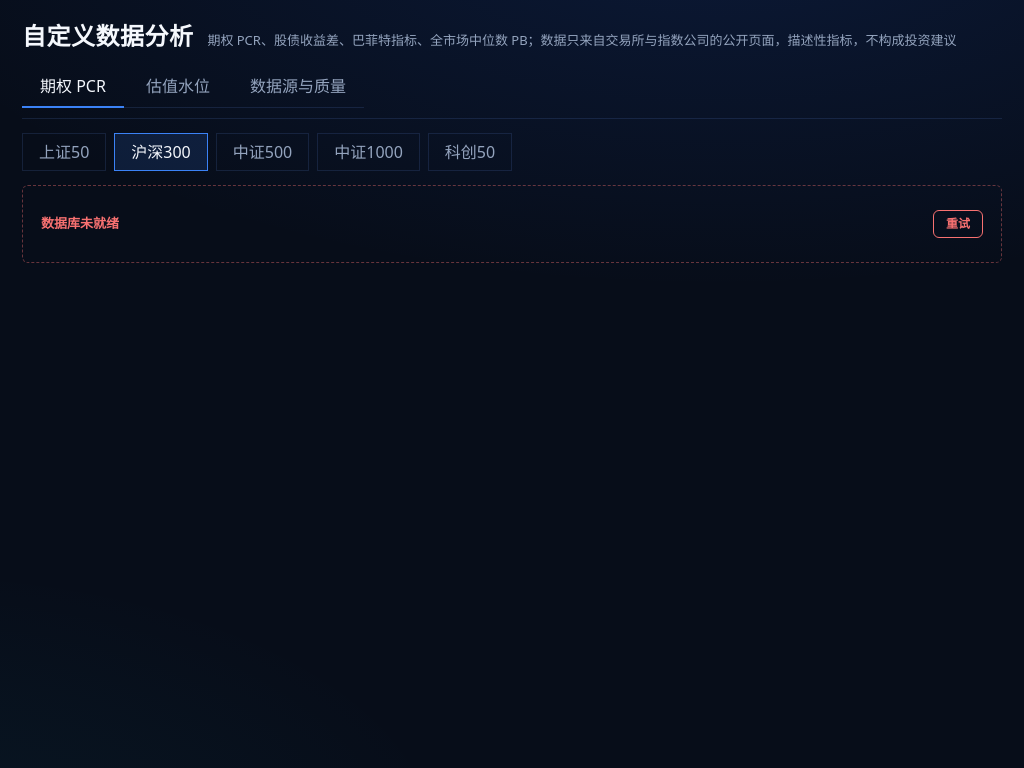
Test: 自定义数据分析页 › 接口失败时显示错误并允许重试，不展示任何旧数字
The width and height of the screenshot is (1024, 768).
Expected: the text "数据库未就绪" is shown, [41,214,119,234]
What coordinates should you click on to do the following:
click the button "重试"
I would click on:
 (958, 224)
Its box is [933,210,983,238].
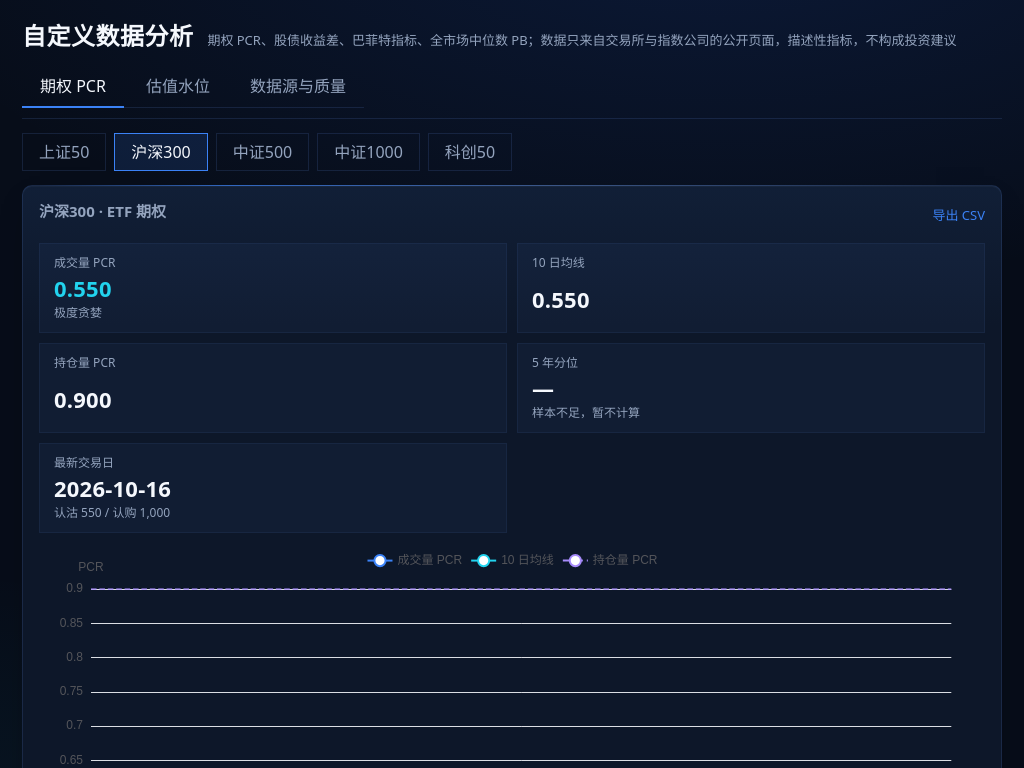
Now the heading "沪深300 · ETF 期权" is shown, box [39,200,166,222]
